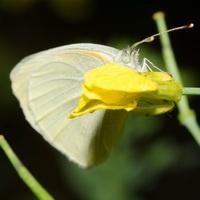insect: (10, 34, 181, 167)
